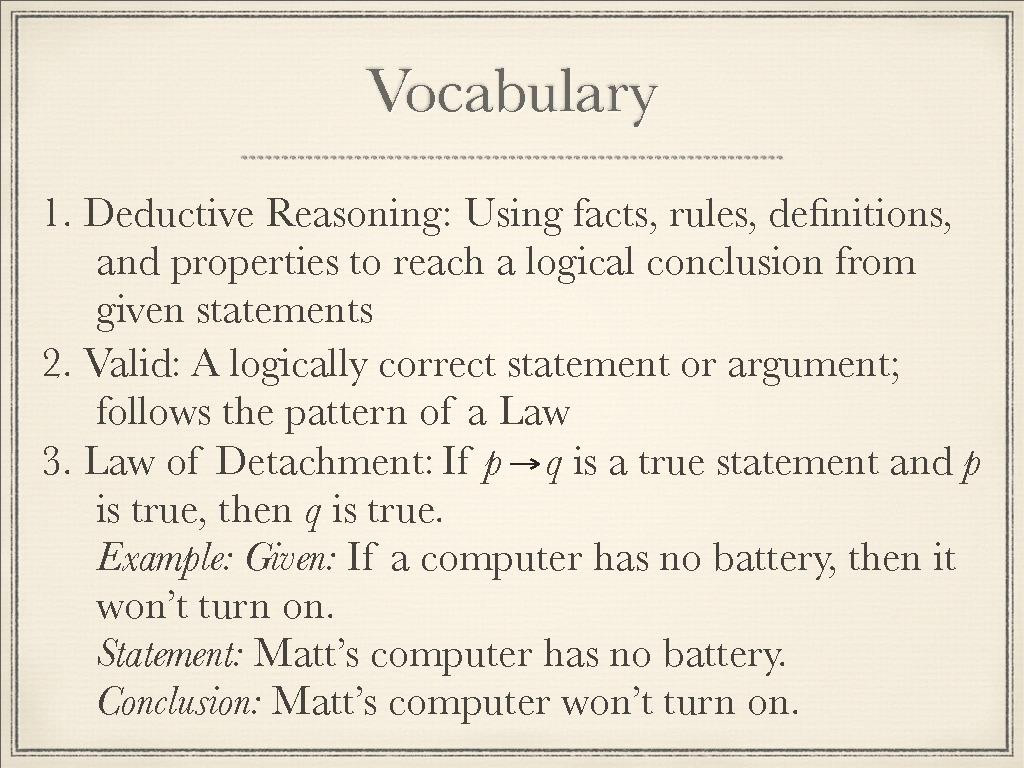paragraph: (36, 175, 991, 736)
title: (359, 48, 677, 136)
